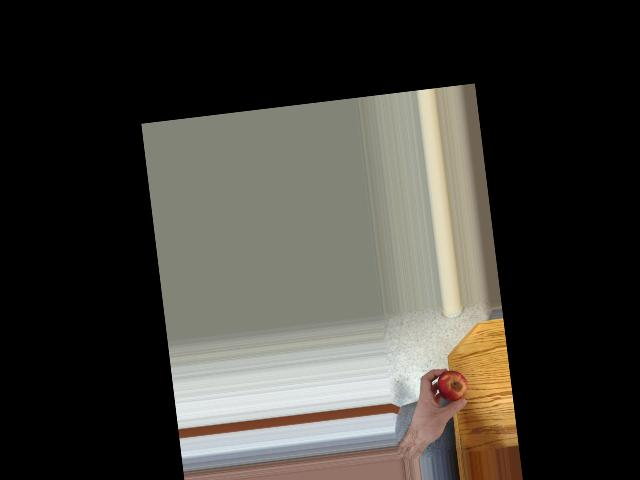apple: (433, 367, 469, 407)
